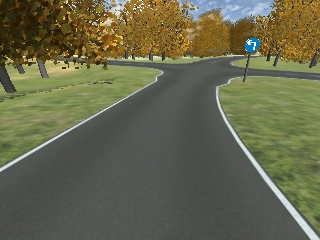left: (245, 39, 260, 51)
